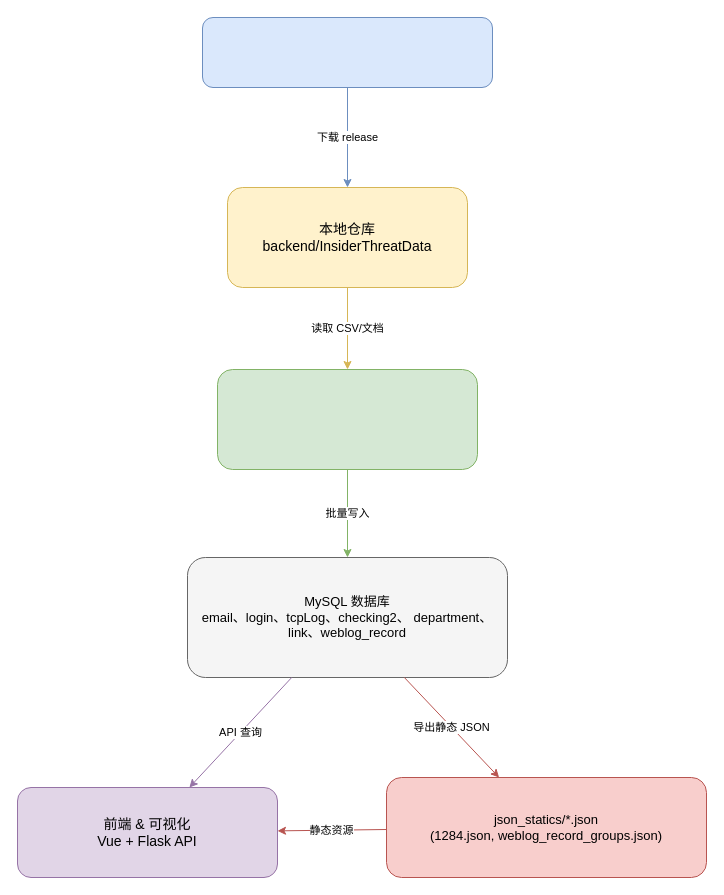
The diagram is 724 pixels wide and 895 high, and some of its shapes have lost their labels. Each missing label, with the centre of its shape:
"GitHub csuvis/InsiderThreatData" goes at [347,52].
"加载映射+导入 MySQL scripts/import_dataset.py" goes at [347,419].
